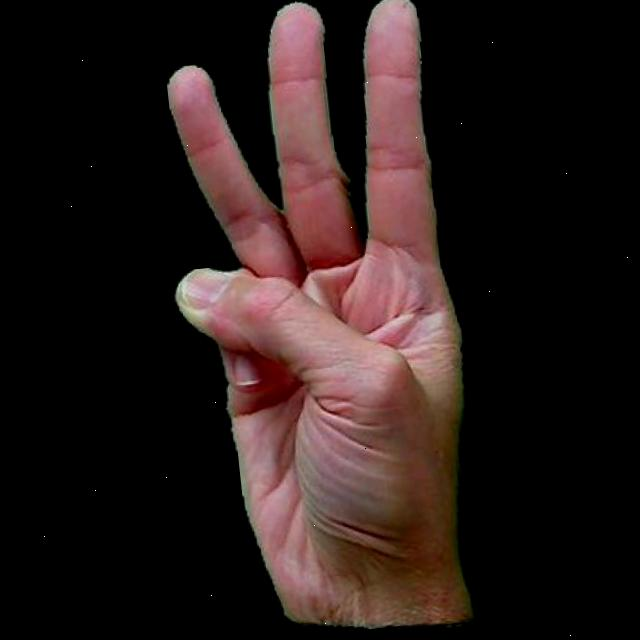w: (132, 0, 491, 640)
